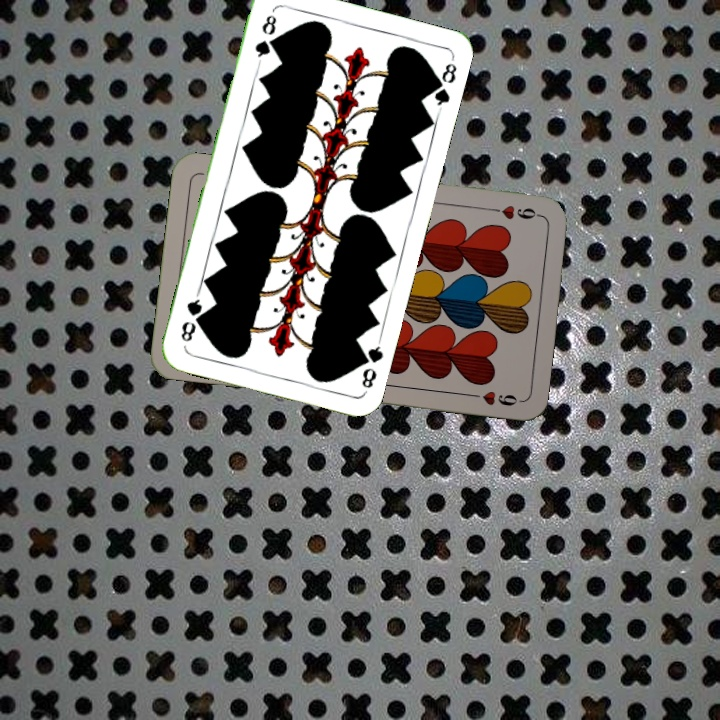G8: (354, 336, 386, 394), (251, 10, 279, 66)
H9: (484, 201, 543, 222)
